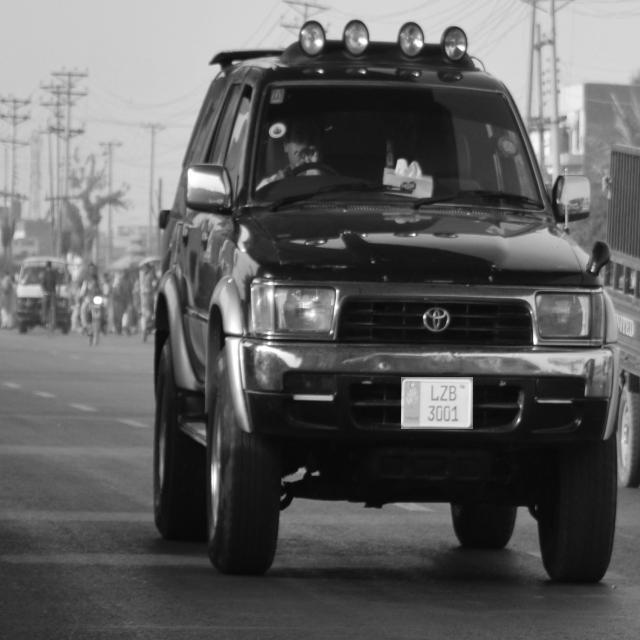number_plate: (401, 377, 473, 429)
